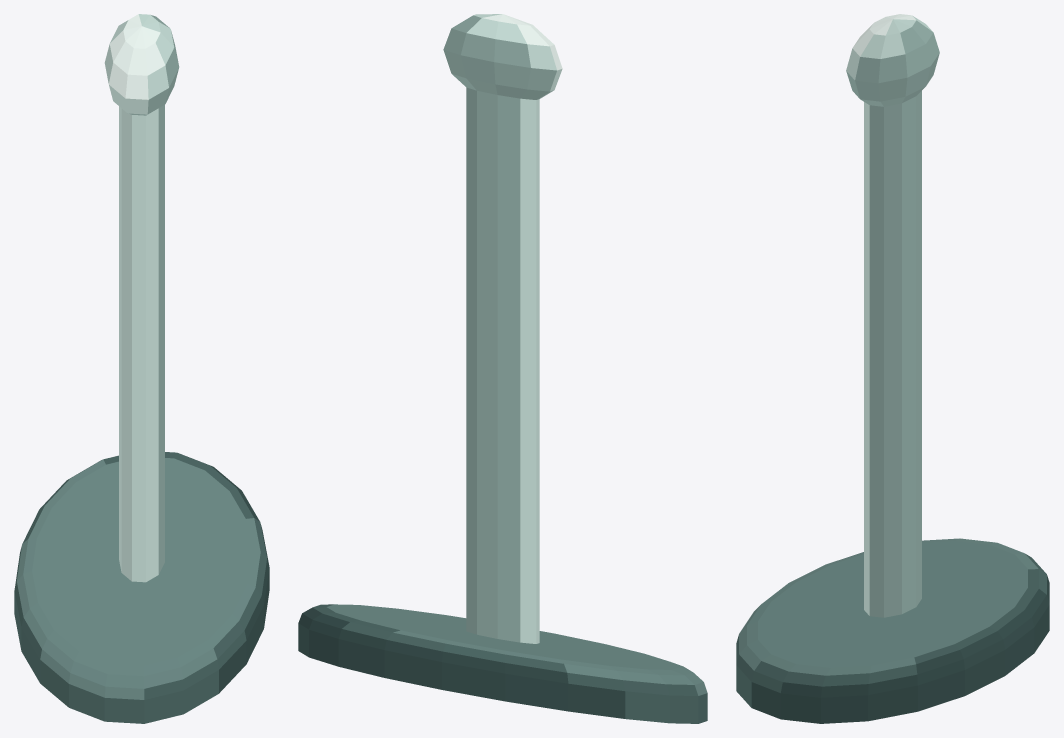
Rendered from Checkpoint_Post.gltf.
3 renders of one model, left to right at view 1: azimuth 30°, elevation 25°; view 2: azimuth 150°, elevation 25°; view 3: azimuth 270°, elevation 25°, orthographic. The views are drawn at different scales.
Visible parts, largest first — view 1: Checkpoint_Post_baked; view 2: Checkpoint_Post_baked; view 3: Checkpoint_Post_baked.
Part boxes in pixels (<box>): Checkpoint_Post_baked: <box>14,14,269,723</box>; Checkpoint_Post_baked: <box>298,14,707,723</box>; Checkpoint_Post_baked: <box>736,14,1049,723</box>.
Bounding box in the file's own units: 0.4719 × 1.06 × 0.4346.
